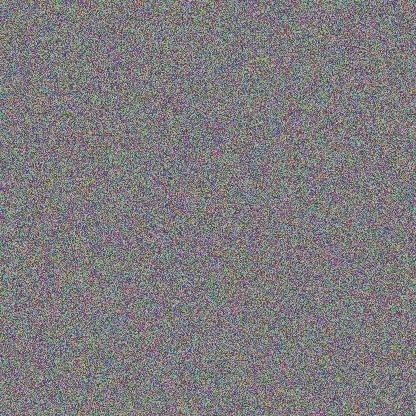occupied: (52, 48, 142, 124), (243, 228, 305, 322)
